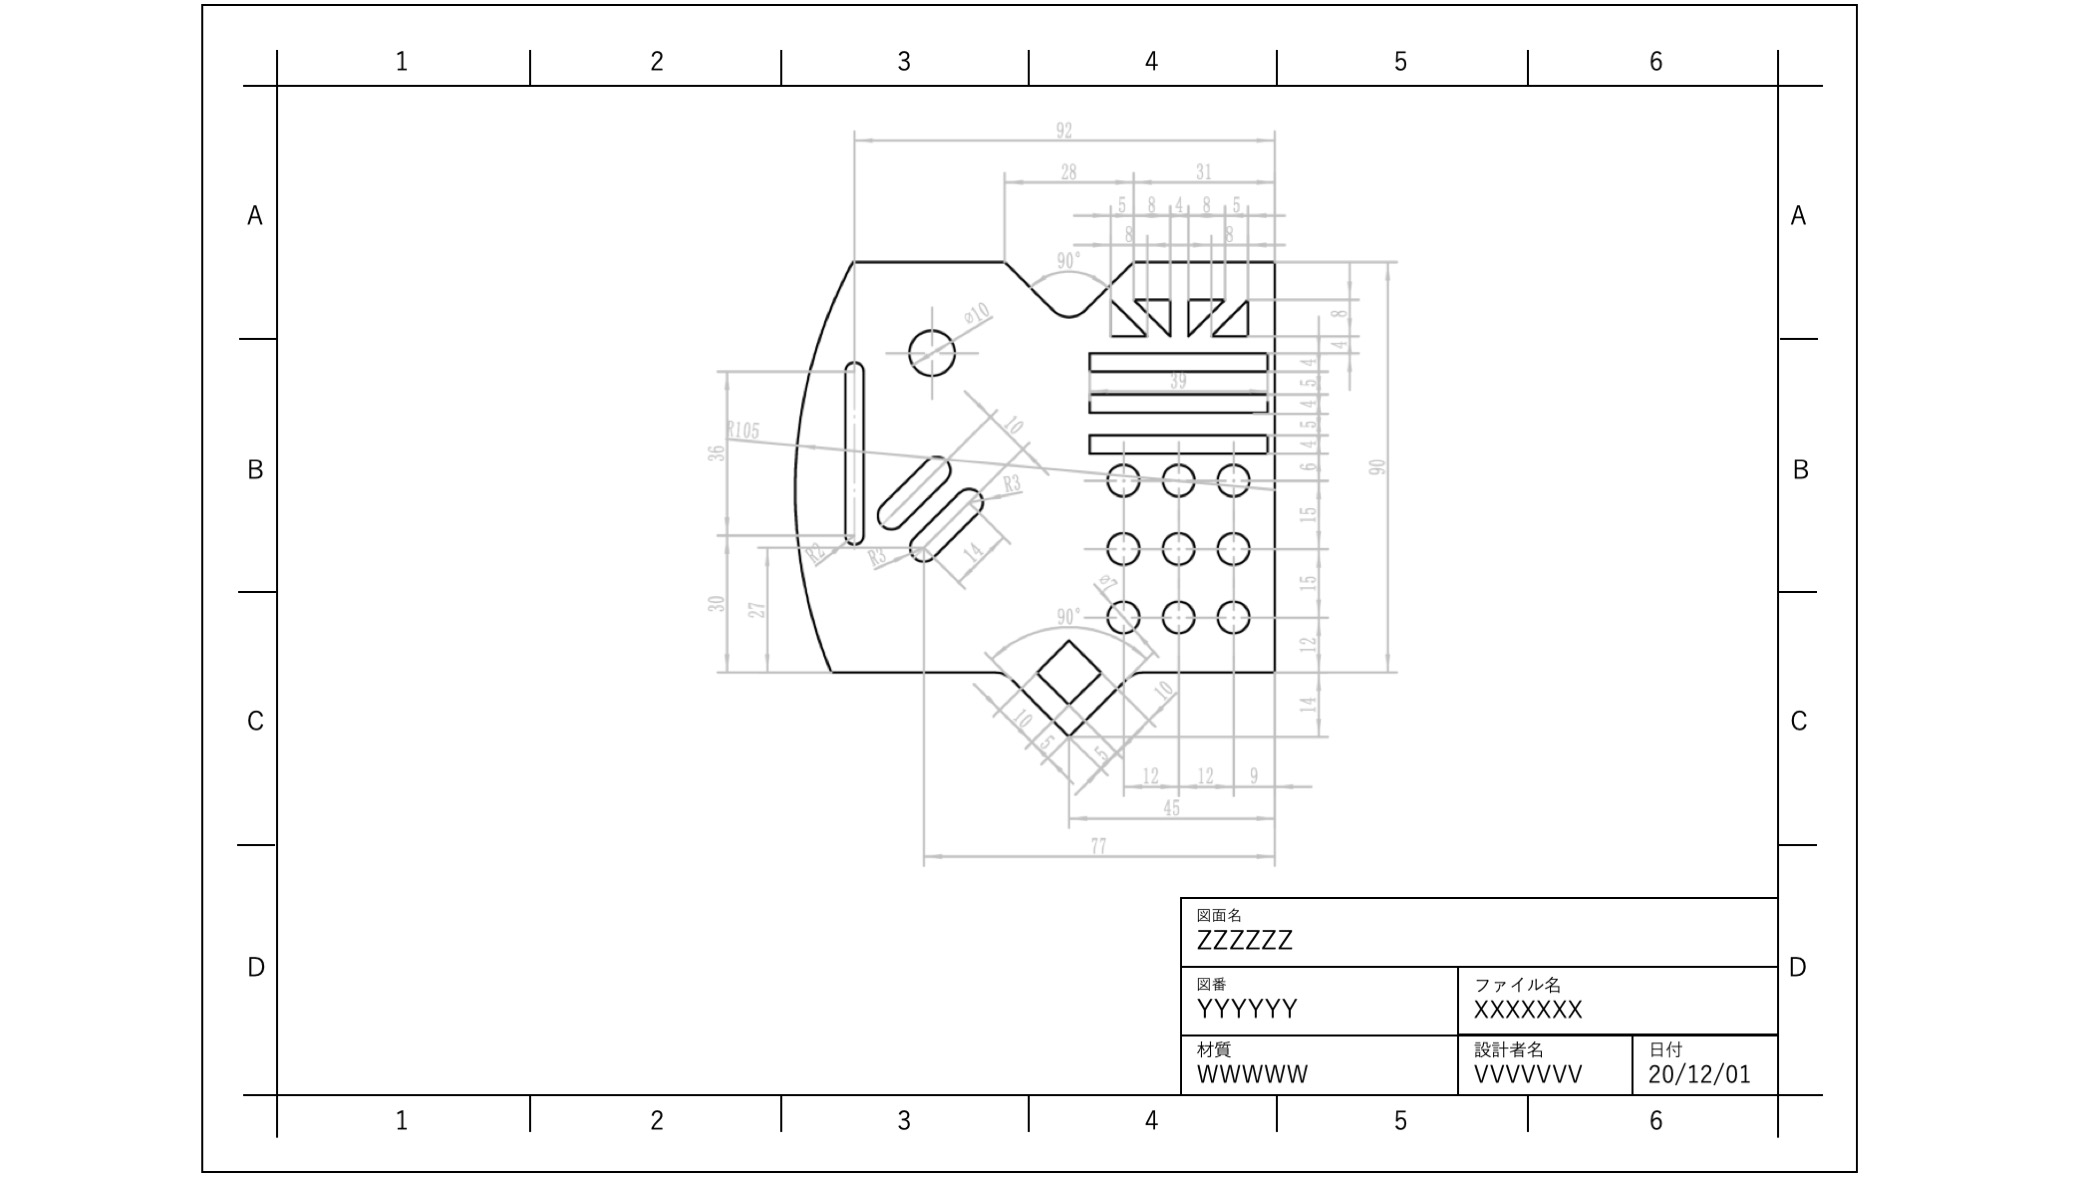circle: (904, 324, 961, 379), (1212, 456, 1253, 499), (1212, 525, 1252, 570), (1155, 523, 1196, 568), (1212, 593, 1252, 636), (1103, 460, 1147, 499), (1158, 594, 1197, 637), (1158, 457, 1199, 497), (1103, 526, 1141, 565), (1103, 596, 1141, 634)
rectangle: (1087, 424, 1282, 459), (1083, 386, 1282, 418), (1021, 634, 1108, 707), (1082, 346, 1272, 376), (842, 349, 865, 548)
round_rectangle: (906, 480, 987, 562), (873, 450, 950, 531)
triangle: (1103, 291, 1150, 340), (1209, 296, 1253, 339), (1139, 280, 1173, 336), (1183, 291, 1220, 340)
